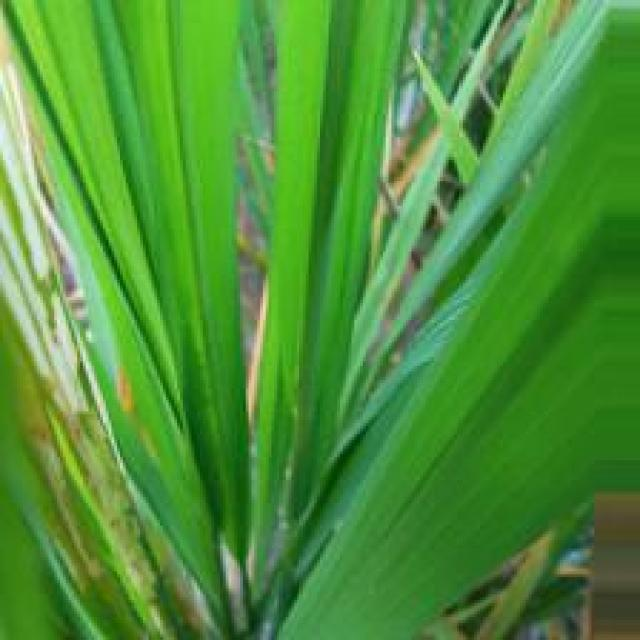Rice_Hispa: (0, 32, 96, 444)
